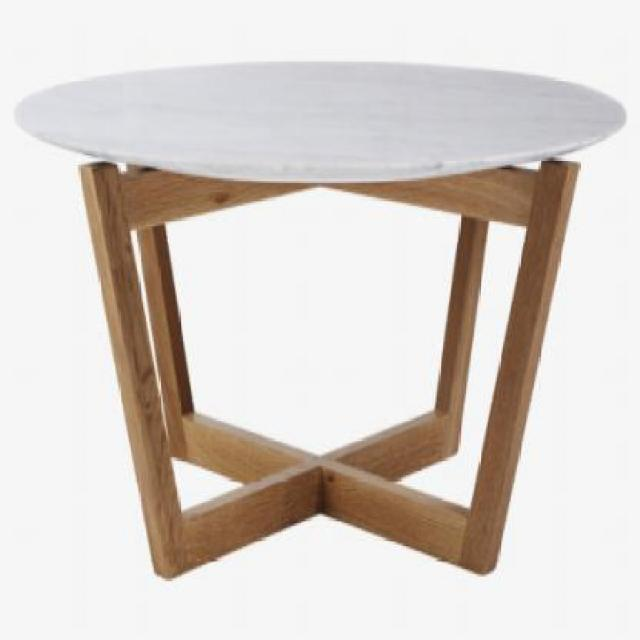table: (12, 57, 626, 585)
